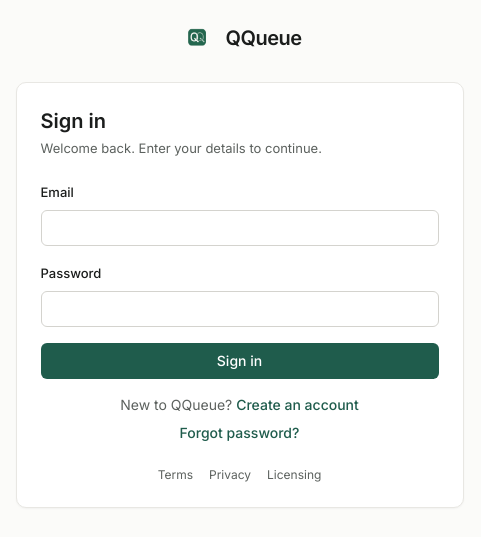
Test: Login › validates an invalid email
Type "not-an-email" into the field labelled "Email". click: (240, 228)
box: [40,210,438,246]
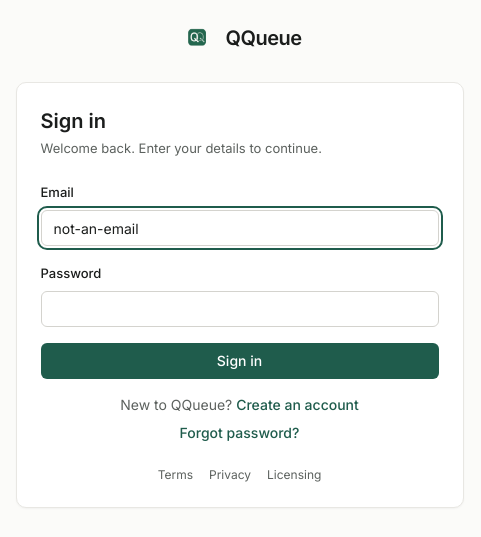
Type "secret" into the password field labelled "Password". click: (240, 309)
box: [40,291,438,327]
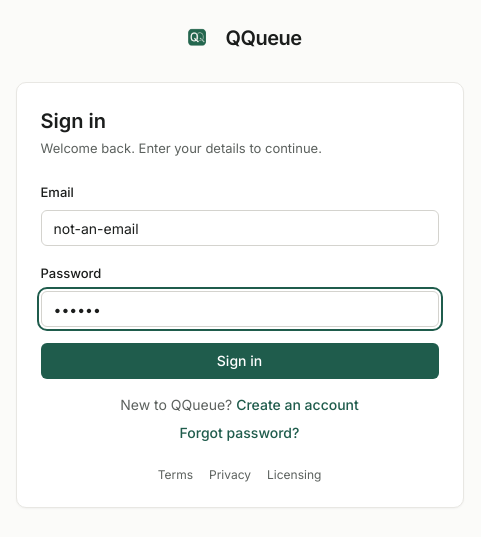
Click the button "Sign in". click: (240, 361)
box: [40,343,438,379]
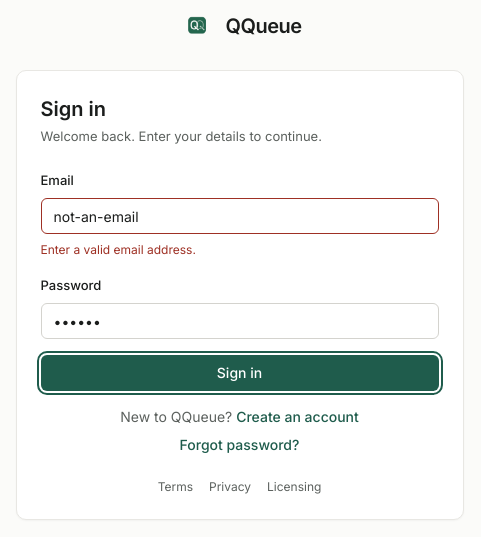
Expected: the text "Enter a valid email address." is shown, [40,242,196,257]
